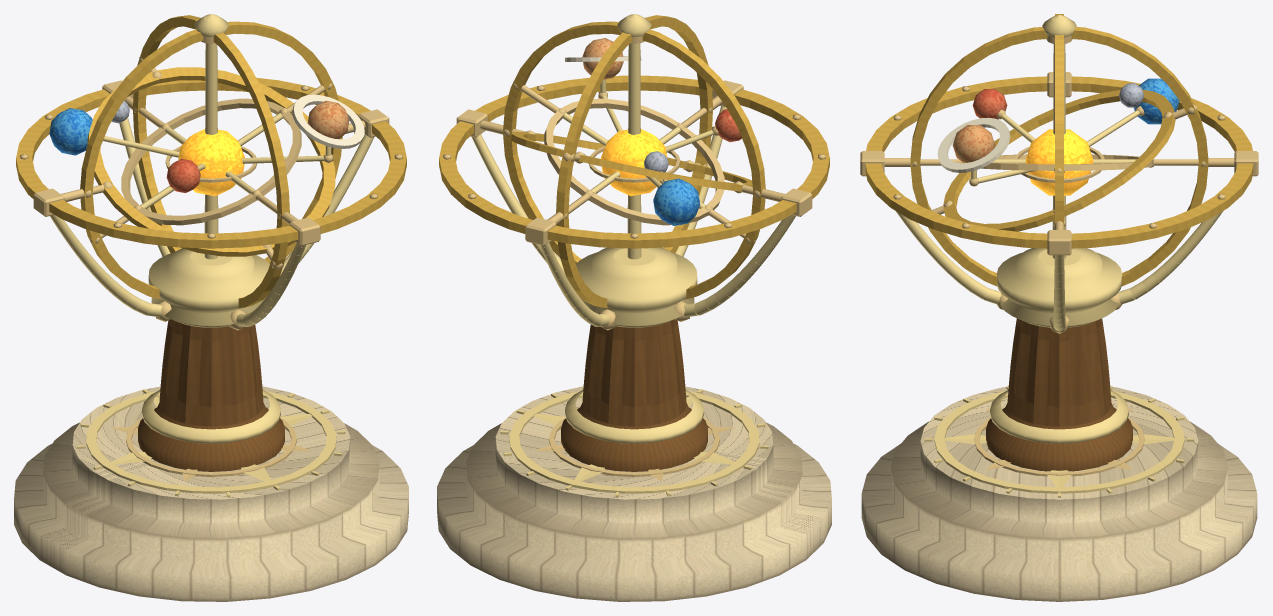
Rendered from orrery.glb.
The picture shows the model from 3 angles, left to right: view 1: azimuth 30°, elevation 25°; view 2: azimuth 150°, elevation 25°; view 3: azimuth 270°, elevation 25°; orthographic projection.
Visible parts, largest first — view 1: orrery; view 2: orrery; view 3: orrery.
Boxes of the visible parts, x1=… form: orrery: x1=14, y1=14, x2=408, y2=601; orrery: x1=437, y1=14, x2=831, y2=601; orrery: x1=860, y1=14, x2=1258, y2=601.
Size of the model in its own units: 2.98 by 4.16 by 2.98.
11 materials, 8 textured.
